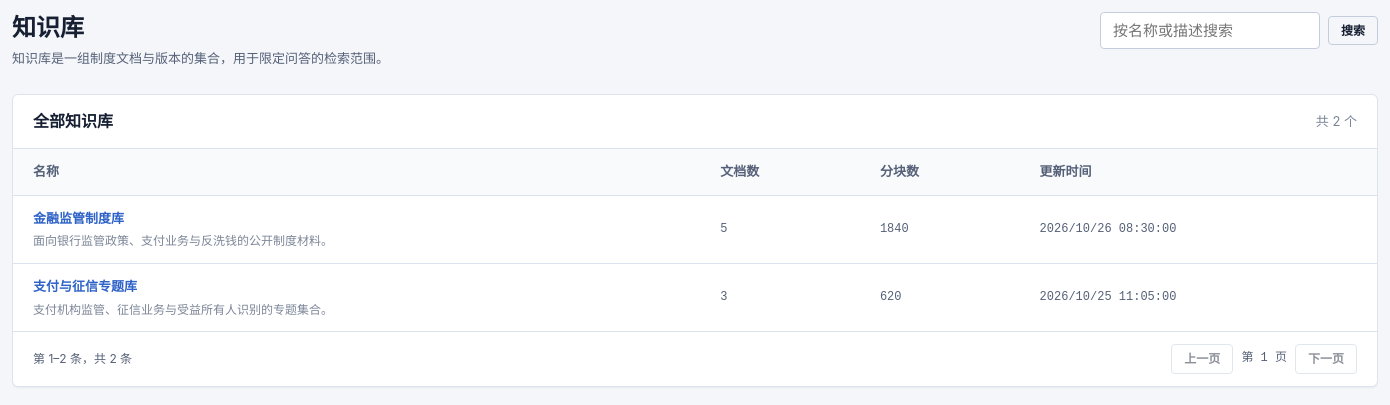
Test case: 知识库列表页 › 搜索无匹配时给出空状态提示
Check: the link "金融监管制度库" is shown, box [33,210,124,226]
In the field named "搜索知识库": (1210, 30) [1100,12,1320,49], type "不存在的关键字"
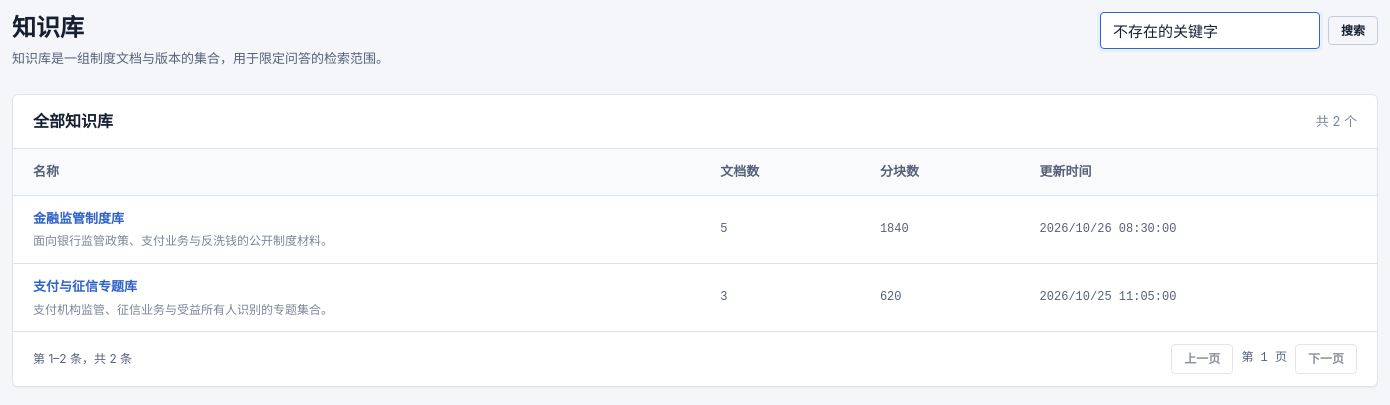
Click the button "搜索": (1353, 30) [1328,16,1378,45]
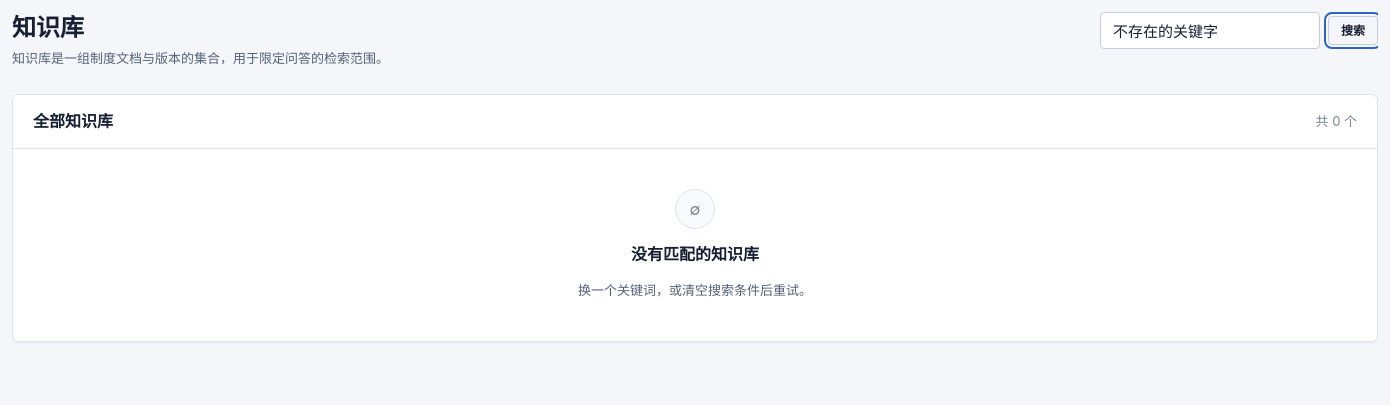
Check: the text "没有匹配的知识库" is shown, box [631,241,759,268]
